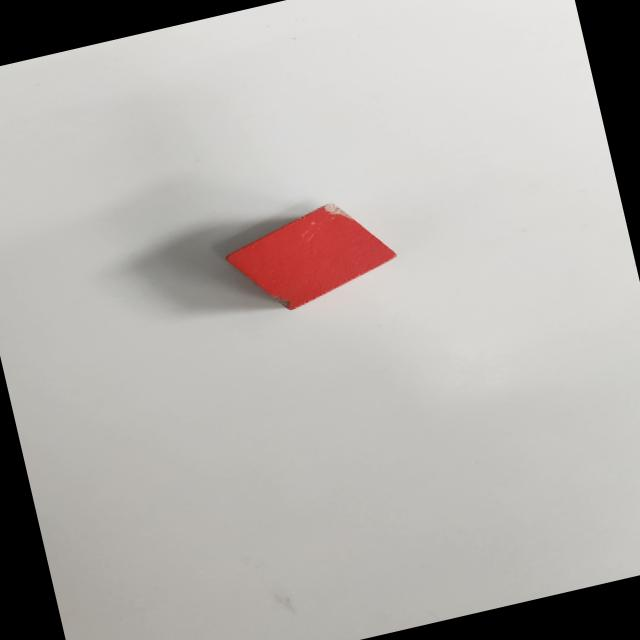broken: (220, 191, 402, 321)
